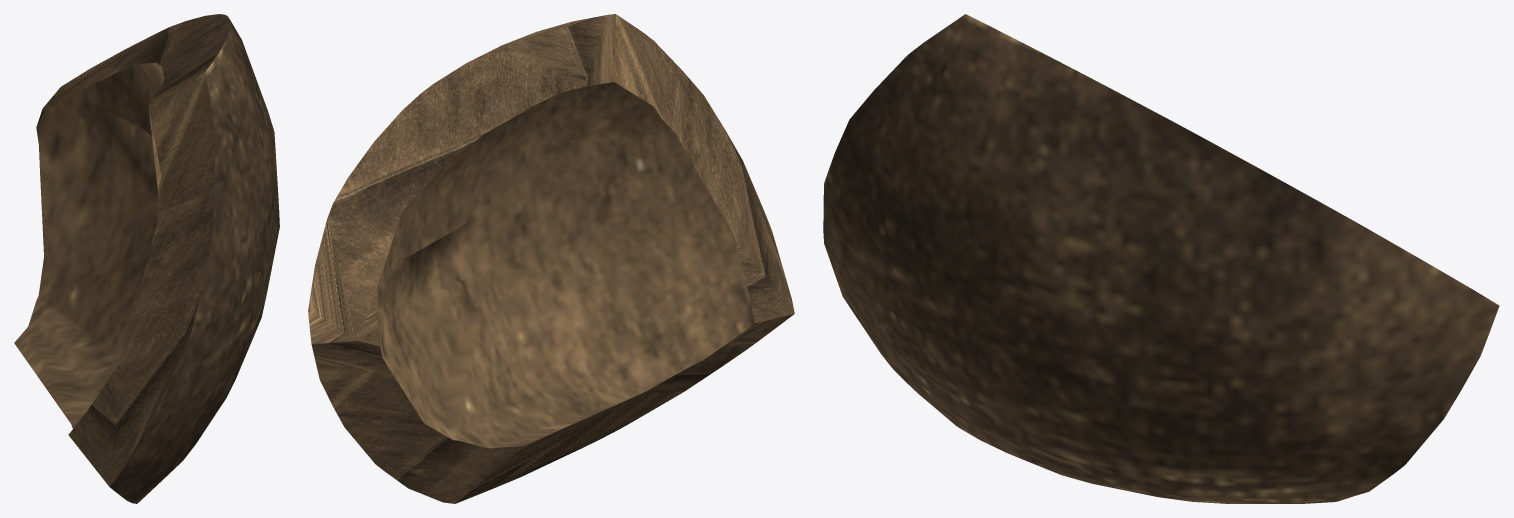
3 renders of one model, left to right at view 1: azimuth 30°, elevation 25°; view 2: azimuth 150°, elevation 25°; view 3: azimuth 270°, elevation 25°, orthographic. The views are drawn at different scales.
Parts seen in each view (by area): view 1: Cylinder_cell.008; view 2: Cylinder_cell.008; view 3: Cylinder_cell.008.
Boxes of the visible parts, left/top/right/bottom form: Cylinder_cell.008: left=14, top=14, right=279, bottom=503; Cylinder_cell.008: left=308, top=14, right=794, bottom=503; Cylinder_cell.008: left=823, top=14, right=1499, bottom=503.
Size of the model in its own units: 0.6945 by 0.9733 by 1.23.
Materials: 1 (1 with a texture image).
